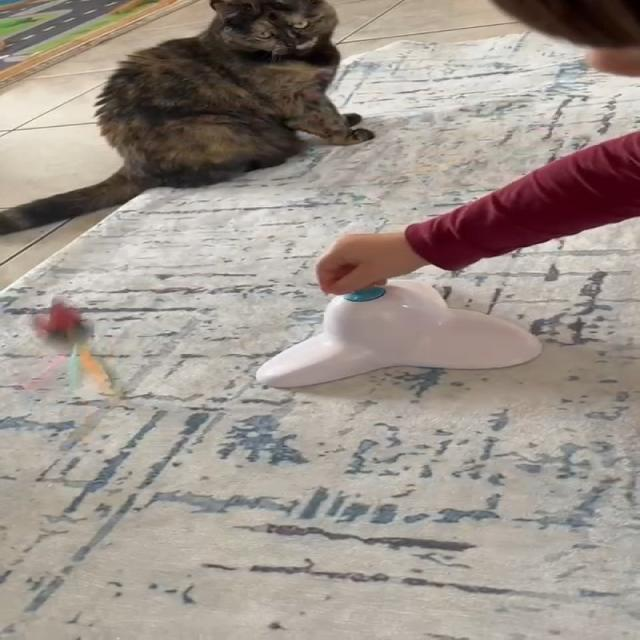authorized: (0, 0, 375, 236)
